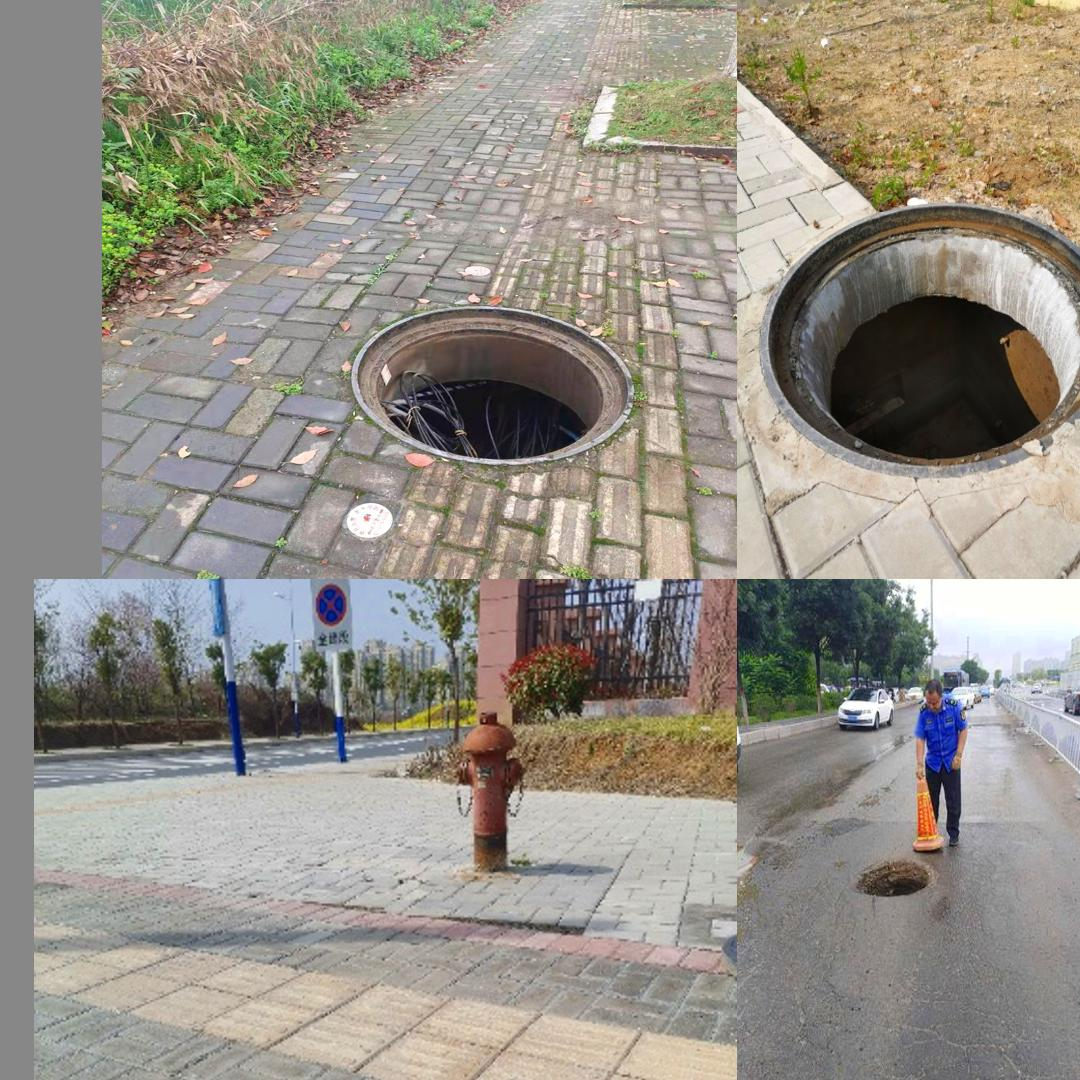lose: (757, 201, 1080, 475), (350, 304, 633, 466), (840, 849, 942, 905)
